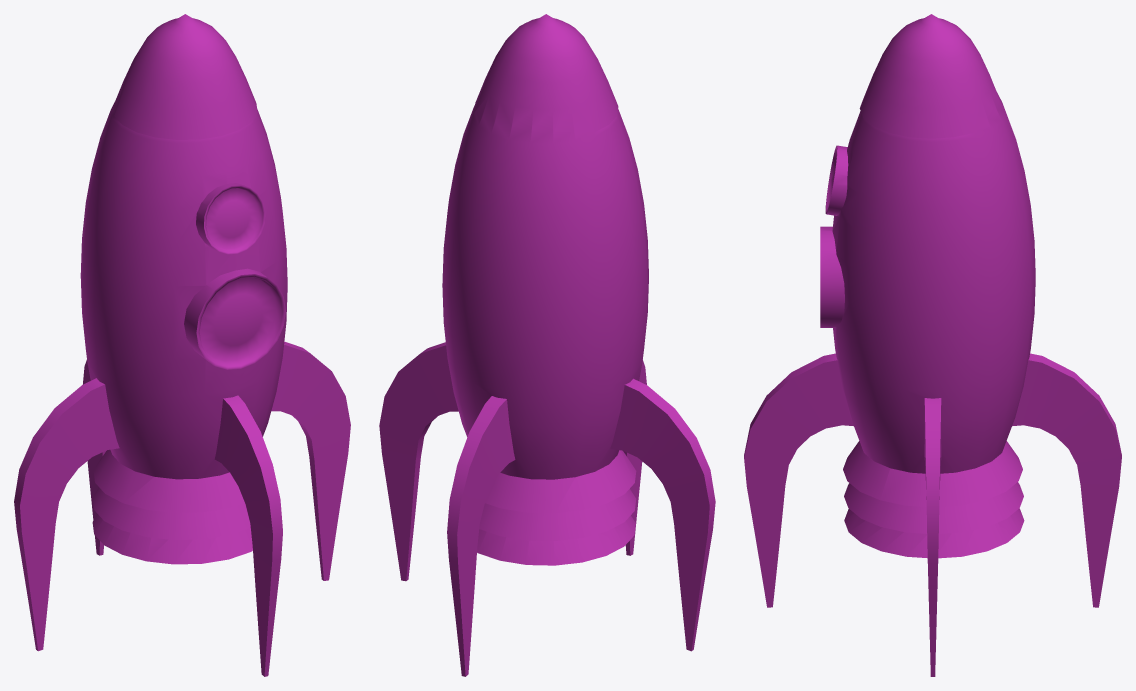
Rendered from rocket.fbx.
3 renders of one model, left to right at view 1: azimuth 30°, elevation 25°; view 2: azimuth 150°, elevation 25°; view 3: azimuth 270°, elevation 25°, orthographic.
Parts seen in each view (by area): view 1: pCone3; view 2: pCone3; view 3: pCone3.
Part boxes in pixels (x1,y1,x2,y2): pCone3: (14,14,350,676); pCone3: (379,14,715,676); pCone3: (744,14,1121,676).
Bounding box in the file's own units: 3.67 × 6.37 × 3.67.
